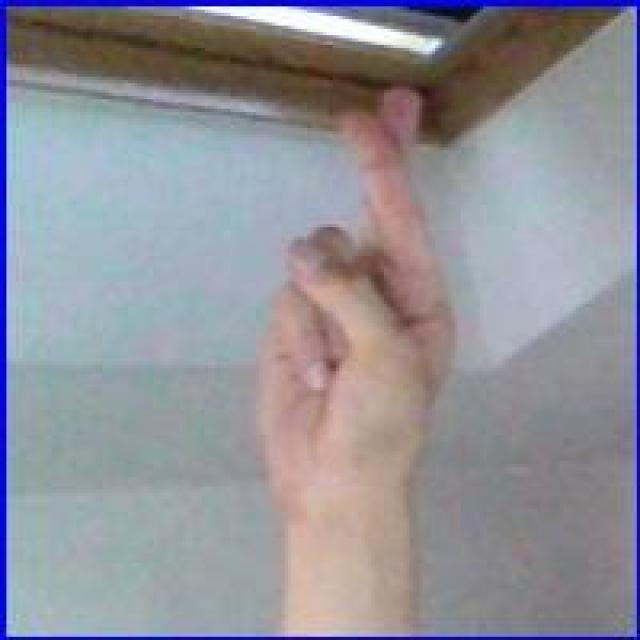R: (248, 78, 459, 510)
